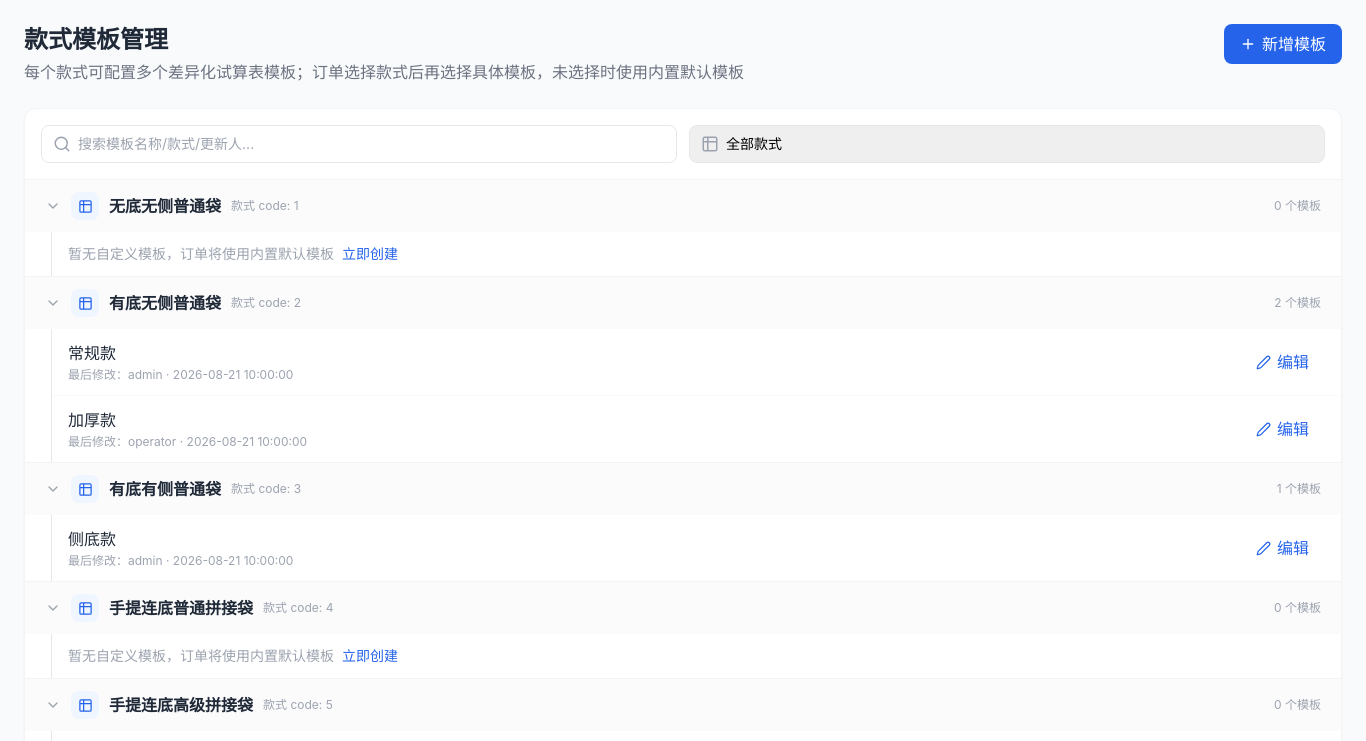
款式模板管理页 › 列表加载与树形结构 › 点击款式父行收起子级，再次点击展开
This screenshot has width=1366, height=741.
Expected: the text "常规款" is shown, [68,343,116,363]
Click the button "有底无侧普通袋 款式 code: 2 2 个模板" at (165, 303), box [25,277,1341,329]
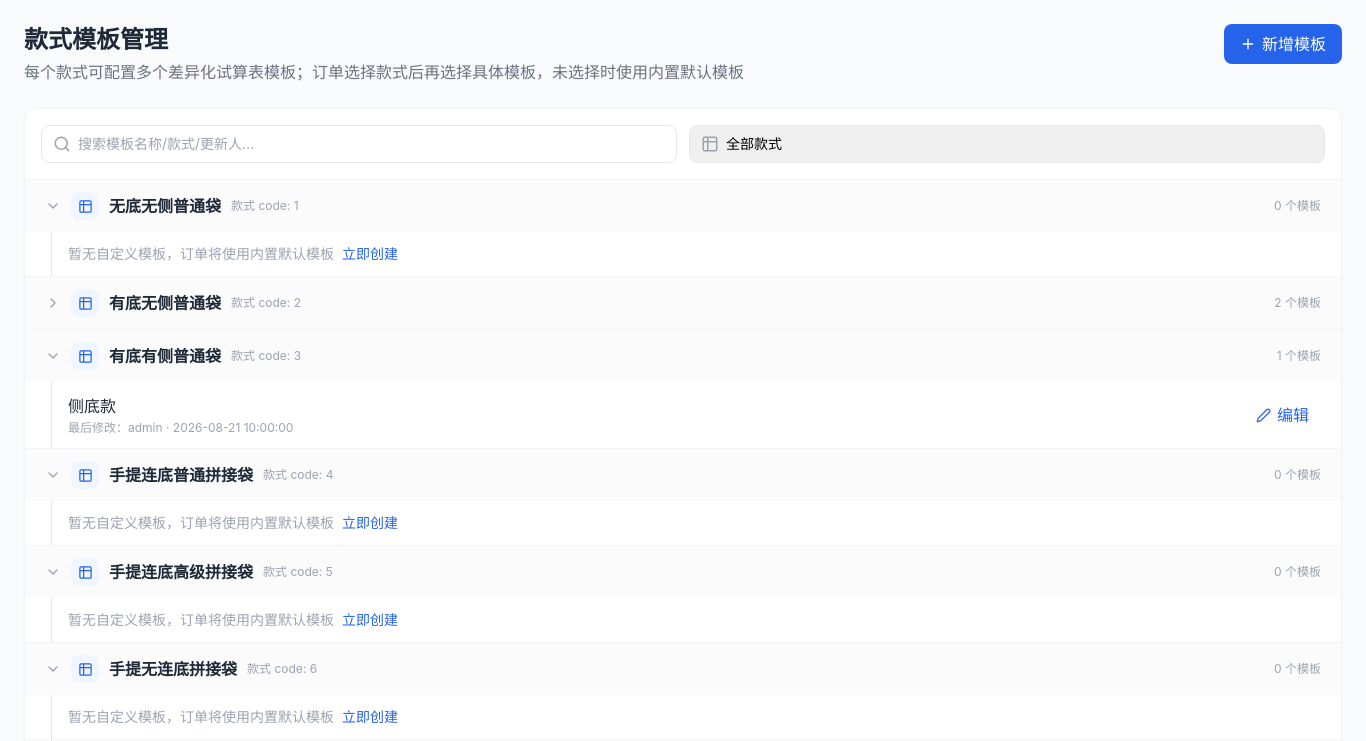
Expected: the text "有底无侧普通袋" is shown, [109,291,221,315]
Now the text "常规款" is gone
Now the text "加厚款" is gone
Note:  再点击展开恢复
Click the button "有底无侧普通袋 款式 code: 2 2 个模板" at (165, 303), box [25,277,1341,329]
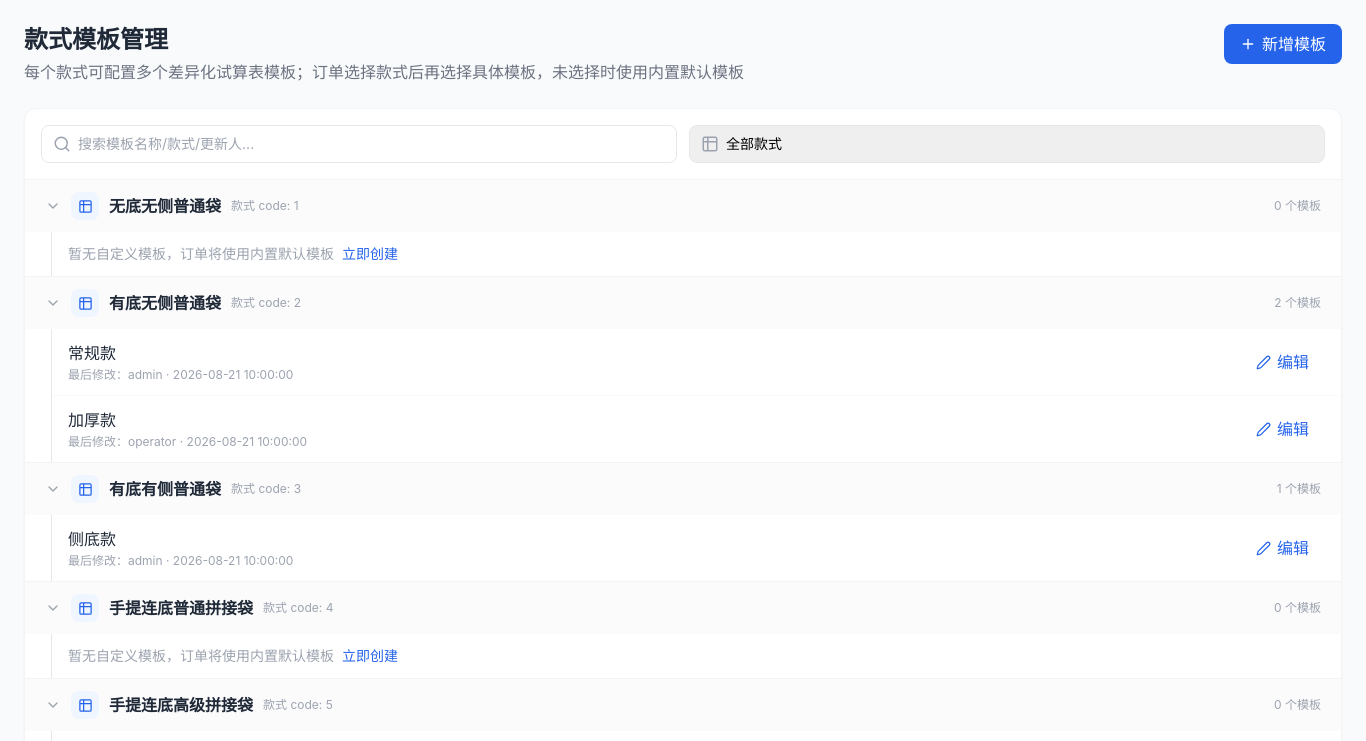
Now the text "常规款" is shown, box [68,343,116,363]
Now the text "加厚款" is shown, box [68,410,116,430]
